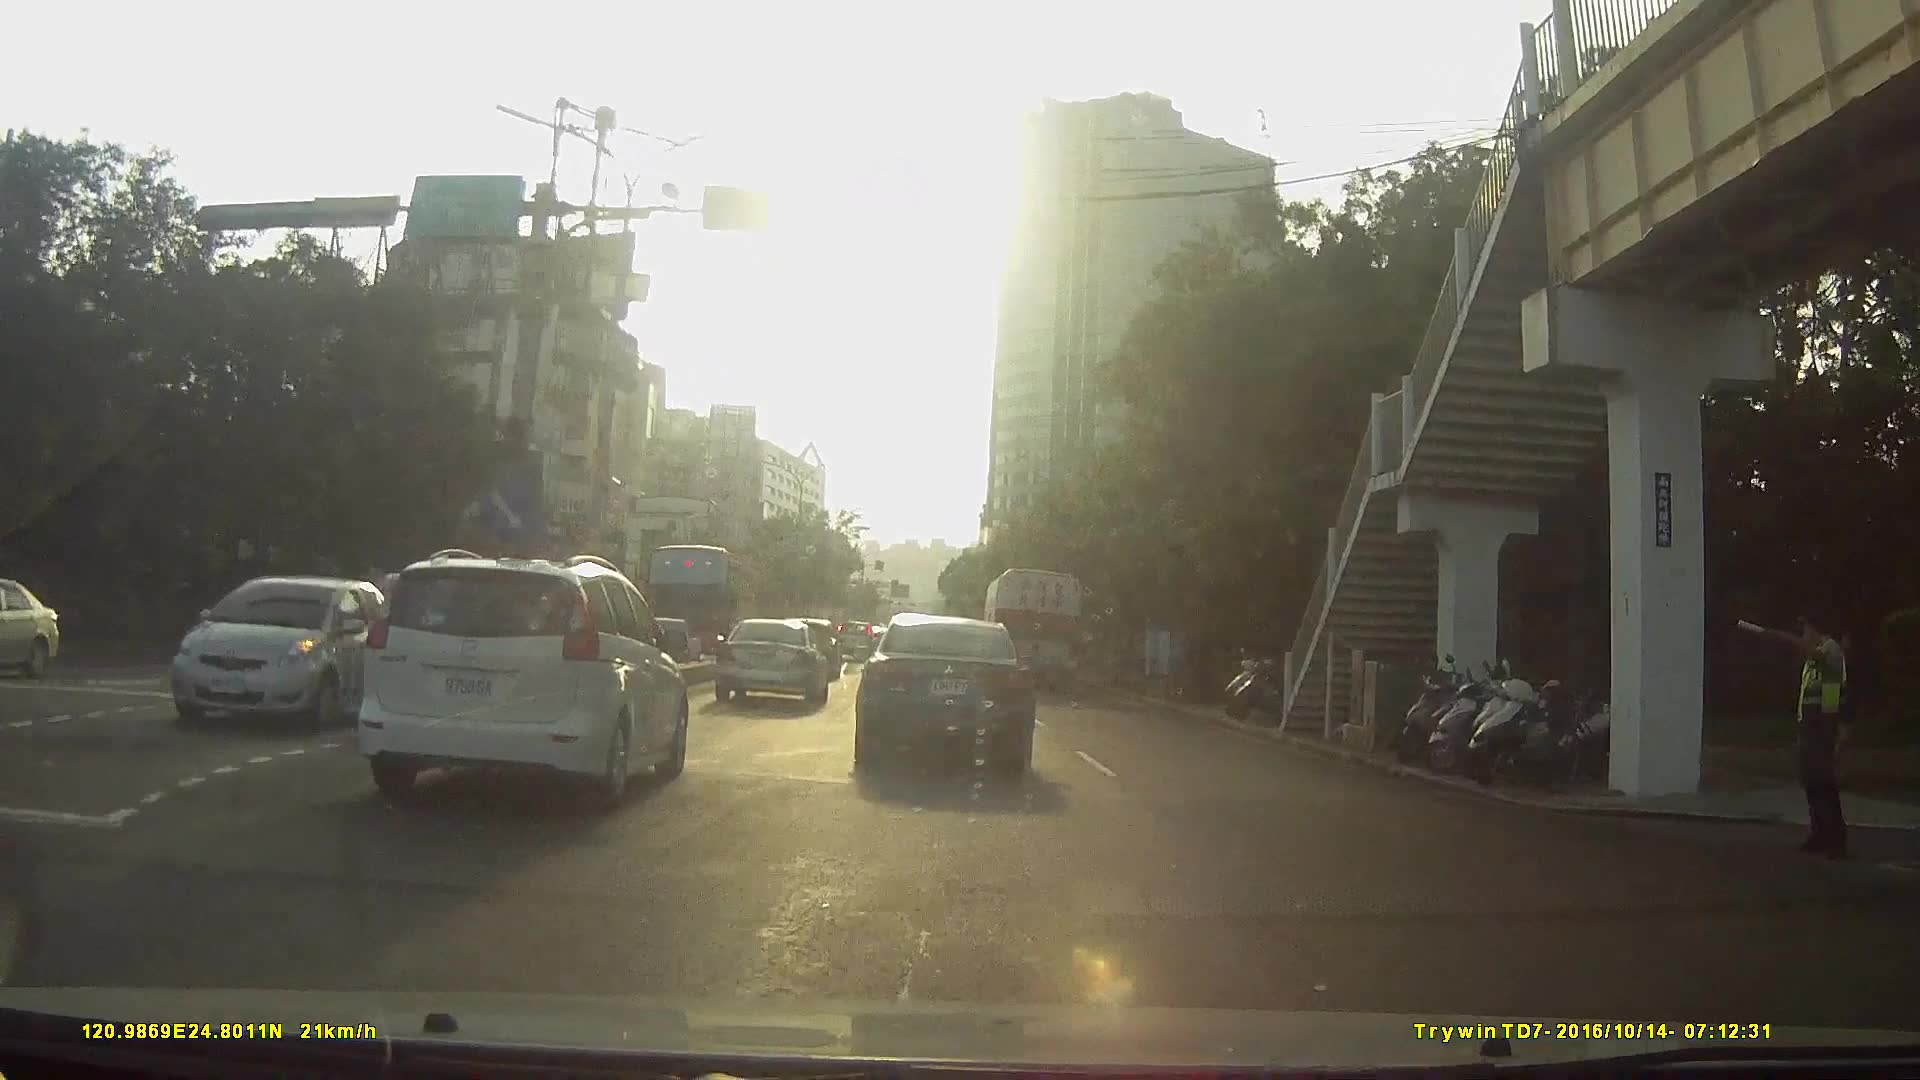pedestrian: (1751, 596, 1865, 863)
vehicle: (250, 556, 684, 868), (358, 547, 690, 805), (151, 569, 402, 749), (854, 608, 1037, 779), (636, 542, 760, 660), (978, 566, 1086, 698), (716, 617, 830, 710), (1, 581, 77, 681), (831, 617, 877, 660)
